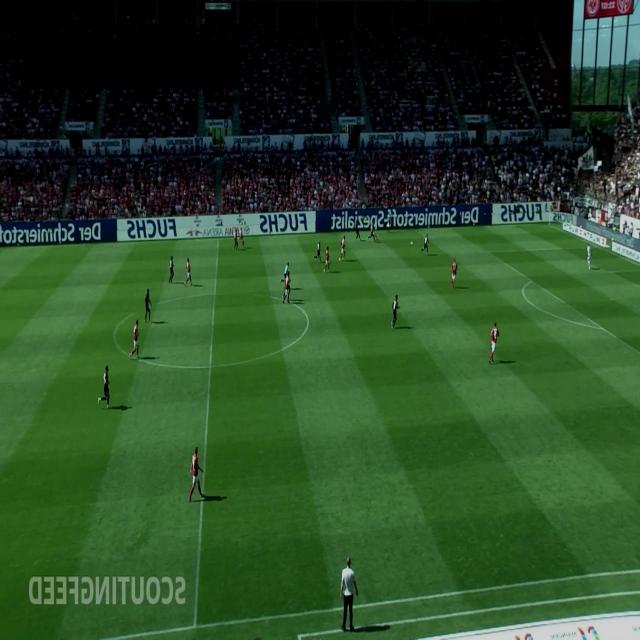goalkeeper: (586, 243, 592, 270)
player: (188, 446, 204, 502), (98, 365, 110, 409), (488, 321, 499, 364), (130, 319, 140, 359), (391, 294, 400, 329), (282, 270, 291, 304), (144, 288, 153, 322), (450, 258, 458, 288), (184, 258, 192, 286), (367, 222, 378, 242), (338, 235, 346, 261), (313, 239, 321, 263), (323, 246, 330, 272), (421, 233, 429, 254), (168, 256, 174, 284), (238, 226, 244, 248), (355, 223, 361, 241), (234, 229, 238, 250)
referee: (280, 262, 290, 288), (386, 211, 392, 233)
